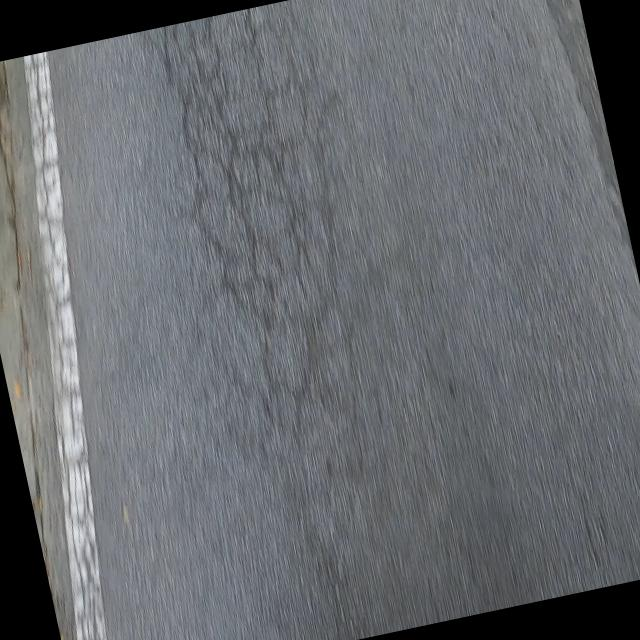Retak-Buaya: (144, 3, 362, 412)
